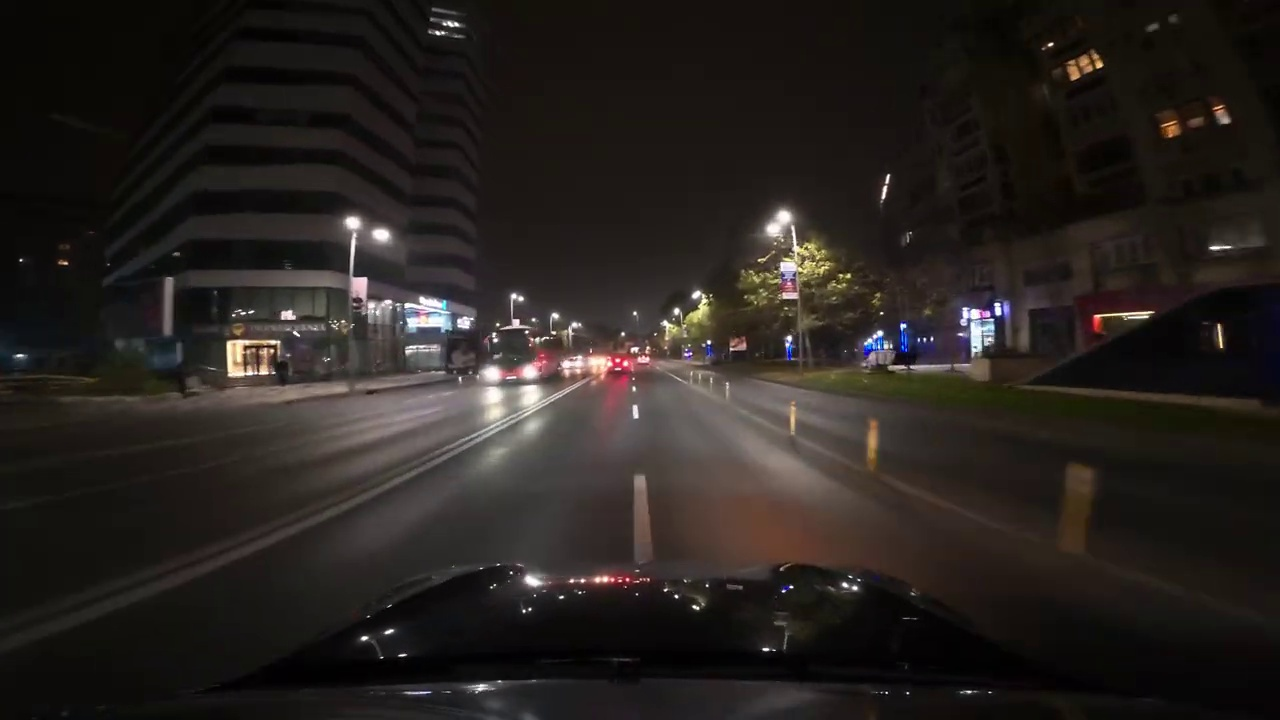acesa: (764, 207, 794, 237), (371, 223, 395, 248), (342, 215, 360, 234)
